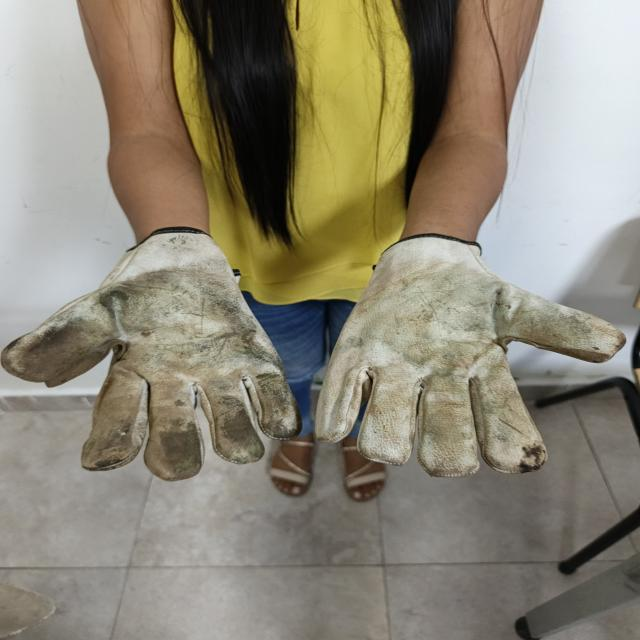gloves: (315, 236, 625, 477), (2, 232, 301, 481)
